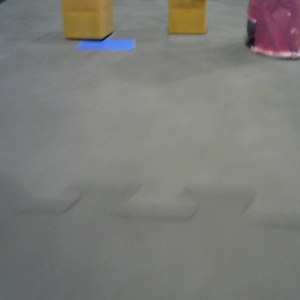Right: (247, 1, 300, 60)
